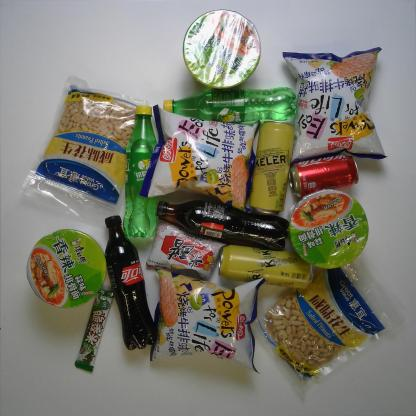Alcohol: (248, 119, 295, 216), (218, 244, 316, 290)
Chocolate: (74, 289, 114, 373)
Dried Fruit: (254, 256, 406, 400), (17, 77, 151, 227)
Drink: (104, 214, 158, 351), (156, 199, 290, 250), (122, 105, 160, 240), (163, 87, 298, 124), (288, 152, 360, 198)
Instant Noodles: (181, 7, 262, 91), (287, 188, 369, 270), (26, 228, 108, 310)
Puffed Food: (139, 104, 261, 214), (282, 45, 388, 166), (149, 267, 266, 375)
Seasoner: (146, 220, 227, 282)
